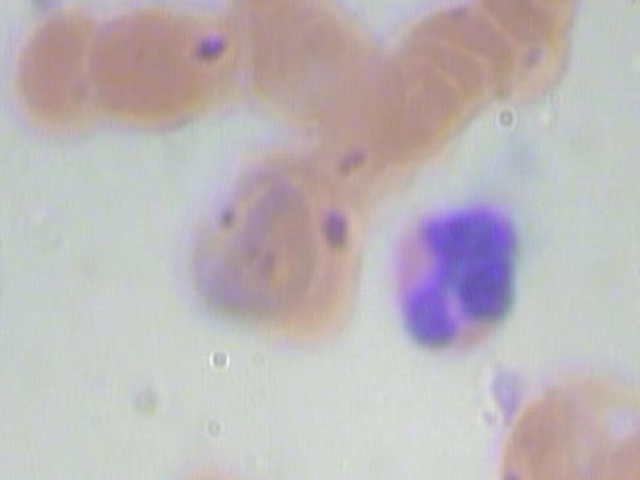RBC: (166, 156, 319, 329), (99, 0, 245, 133), (249, 0, 391, 133), (0, 11, 129, 146), (470, 388, 611, 480), (148, 448, 289, 480), (472, 0, 614, 2)
WBC: (389, 199, 528, 363)
